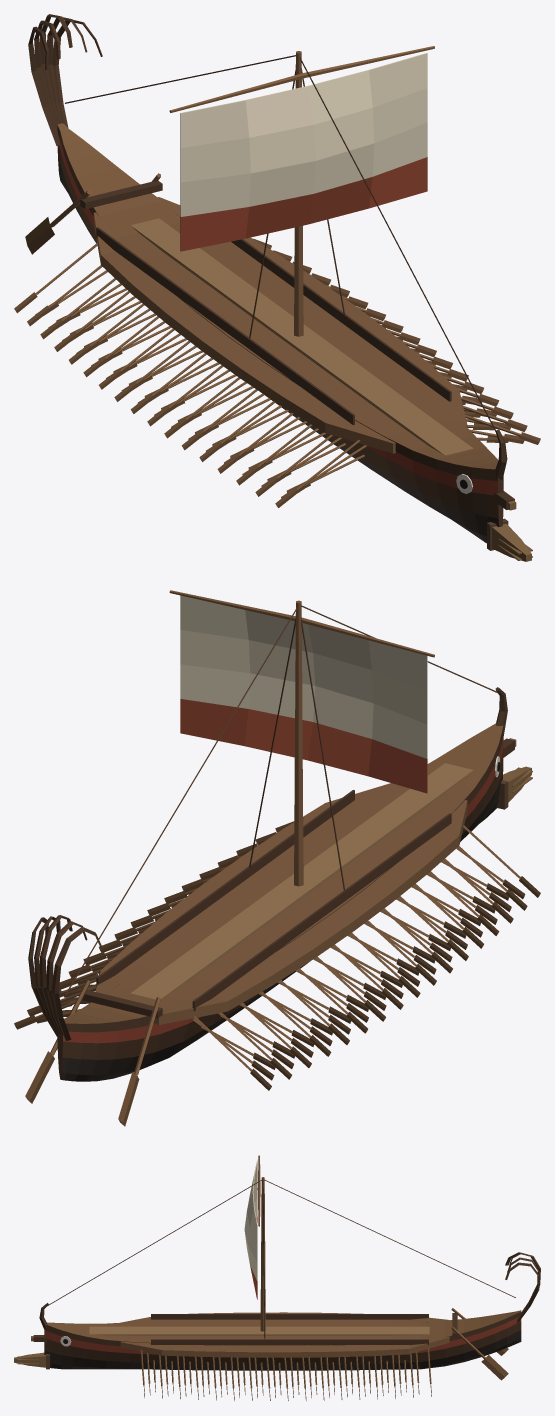
The model's file is trireme.glb.
3 renders of one model, top to bottom at view 1: azimuth 30°, elevation 25°; view 2: azimuth 150°, elevation 25°; view 3: azimuth 270°, elevation 25°, orthographic. The views are drawn at different scales.
Parts seen in each view (by area): view 1: trireme; view 2: trireme; view 3: trireme.
Part boxes in pixels (box(x1,y1,x2,y2)): trireme: box(14, 14, 540, 561); trireme: box(14, 590, 540, 1126); trireme: box(14, 1155, 540, 1400).
Bounding box in the file's own units: 10.11 × 11.8 × 29.4.
